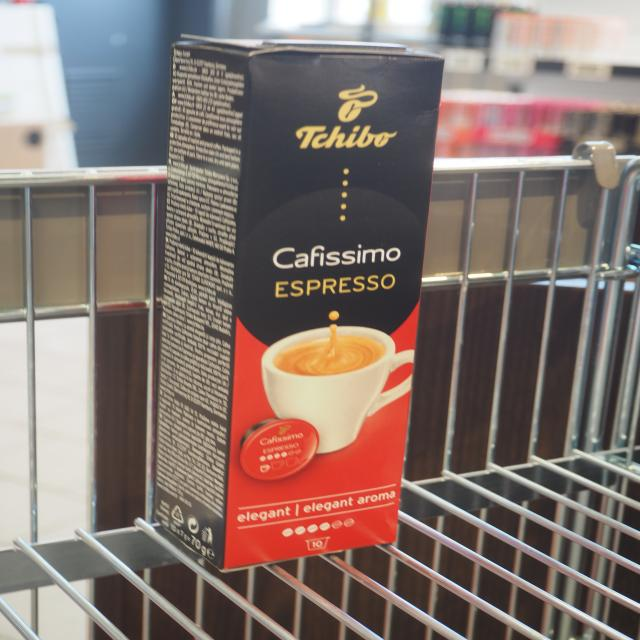Simo Es Elegant: (212, 47, 452, 577)
